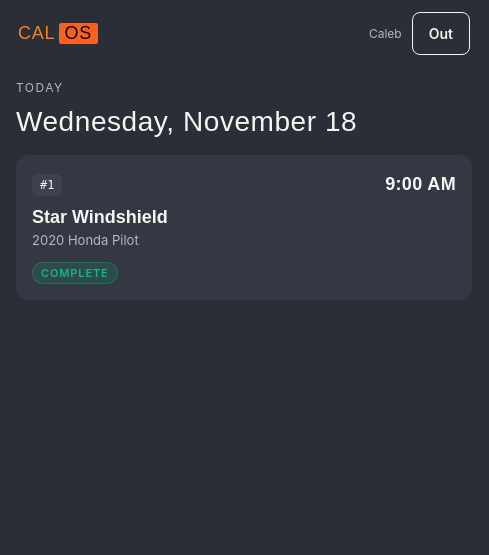
Scenario: the complete confirmation shows an invoice due date
This screenshot has width=489, height=555.
Step 1. Click the button with test id "field-job-job-1" → (47, 184), box [16,155,472,300]
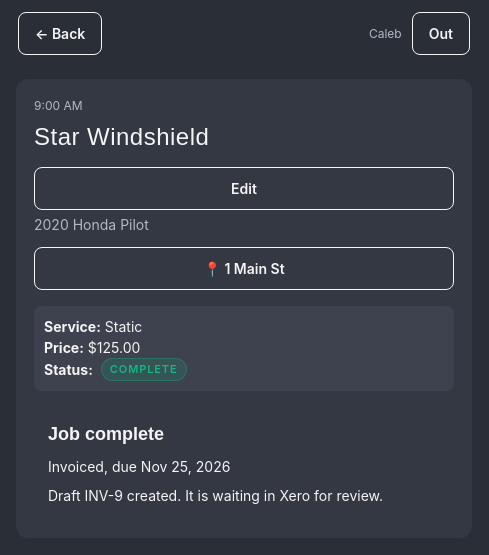
Result: the text with test id "payment-status-line" reads "Invoiced, due Nov 25, 2026" at [48,458,230,474]
